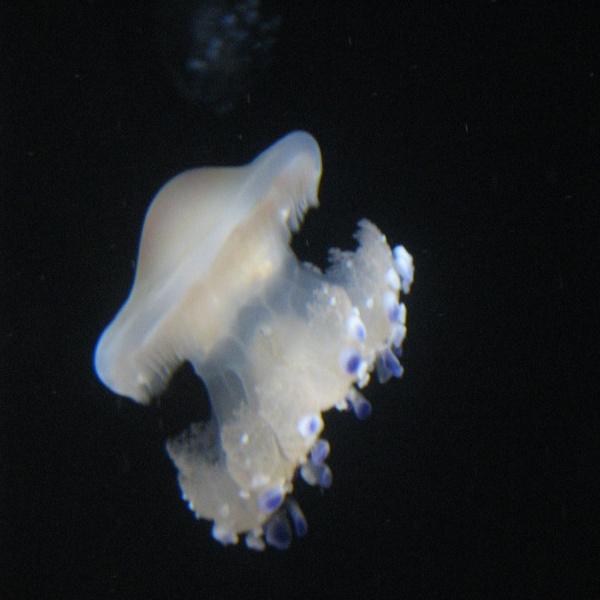Jellyfish: (90, 121, 420, 548)
